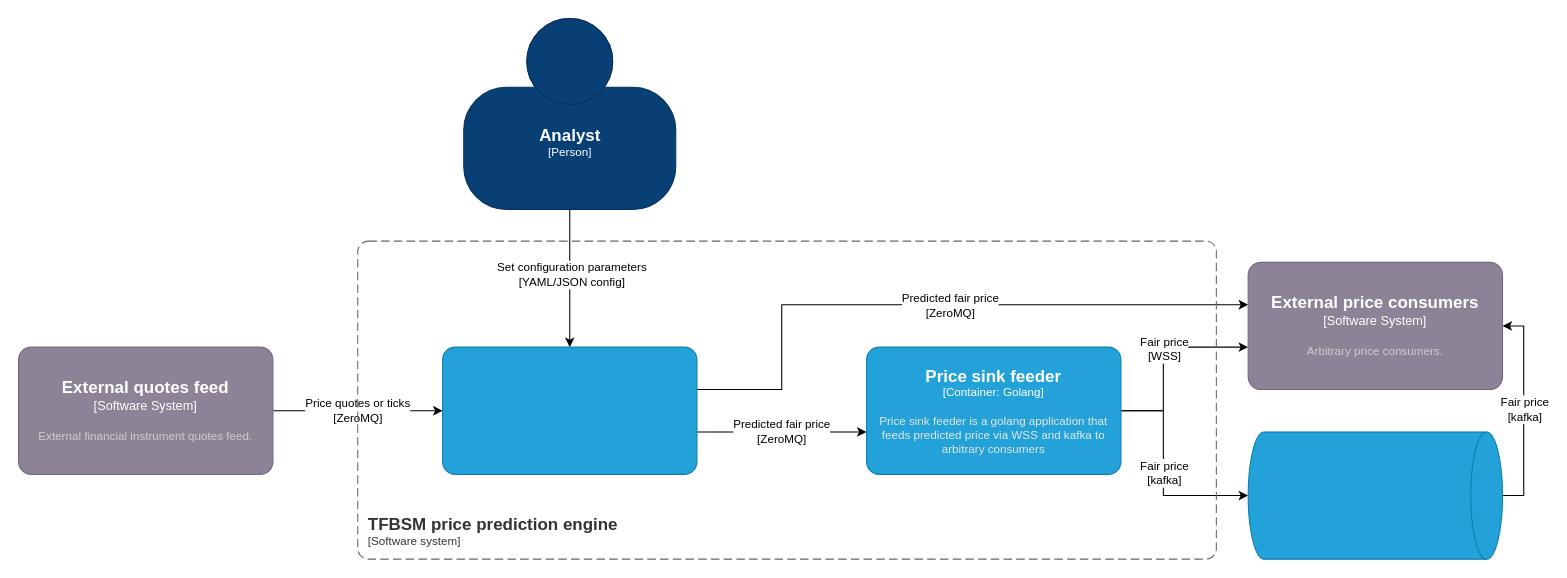
The diagram is 1567 pixels wide and 578 high, and some of its shapes have lost their labels. The shapes that lost their labels are listed below. From the top down, each one's centre as x and y in pixels, then its label:
[569,410]: Pricing engine [Container: C++] TFBSM based option pricing engine
[1375,495]: Message Broker [Container: Apache Kafka] MB used to feed data to other systems.
